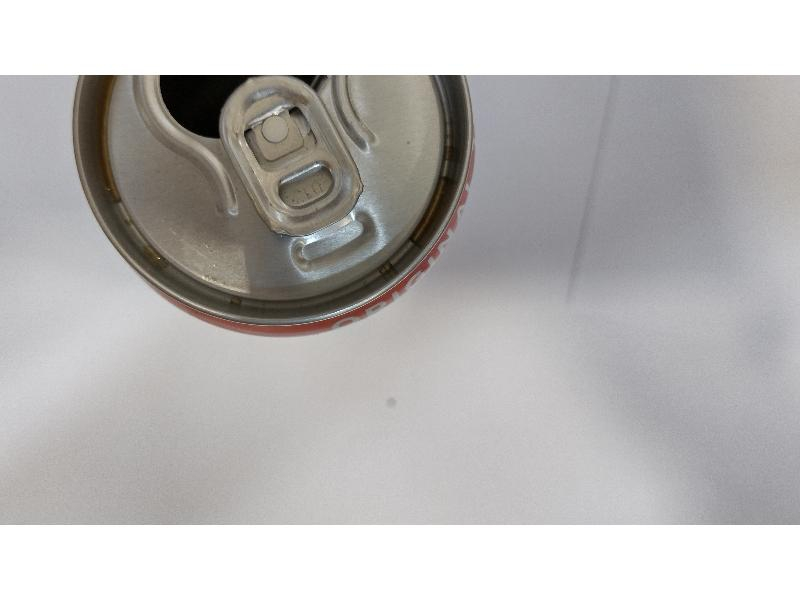can: (73, 75, 481, 344)
